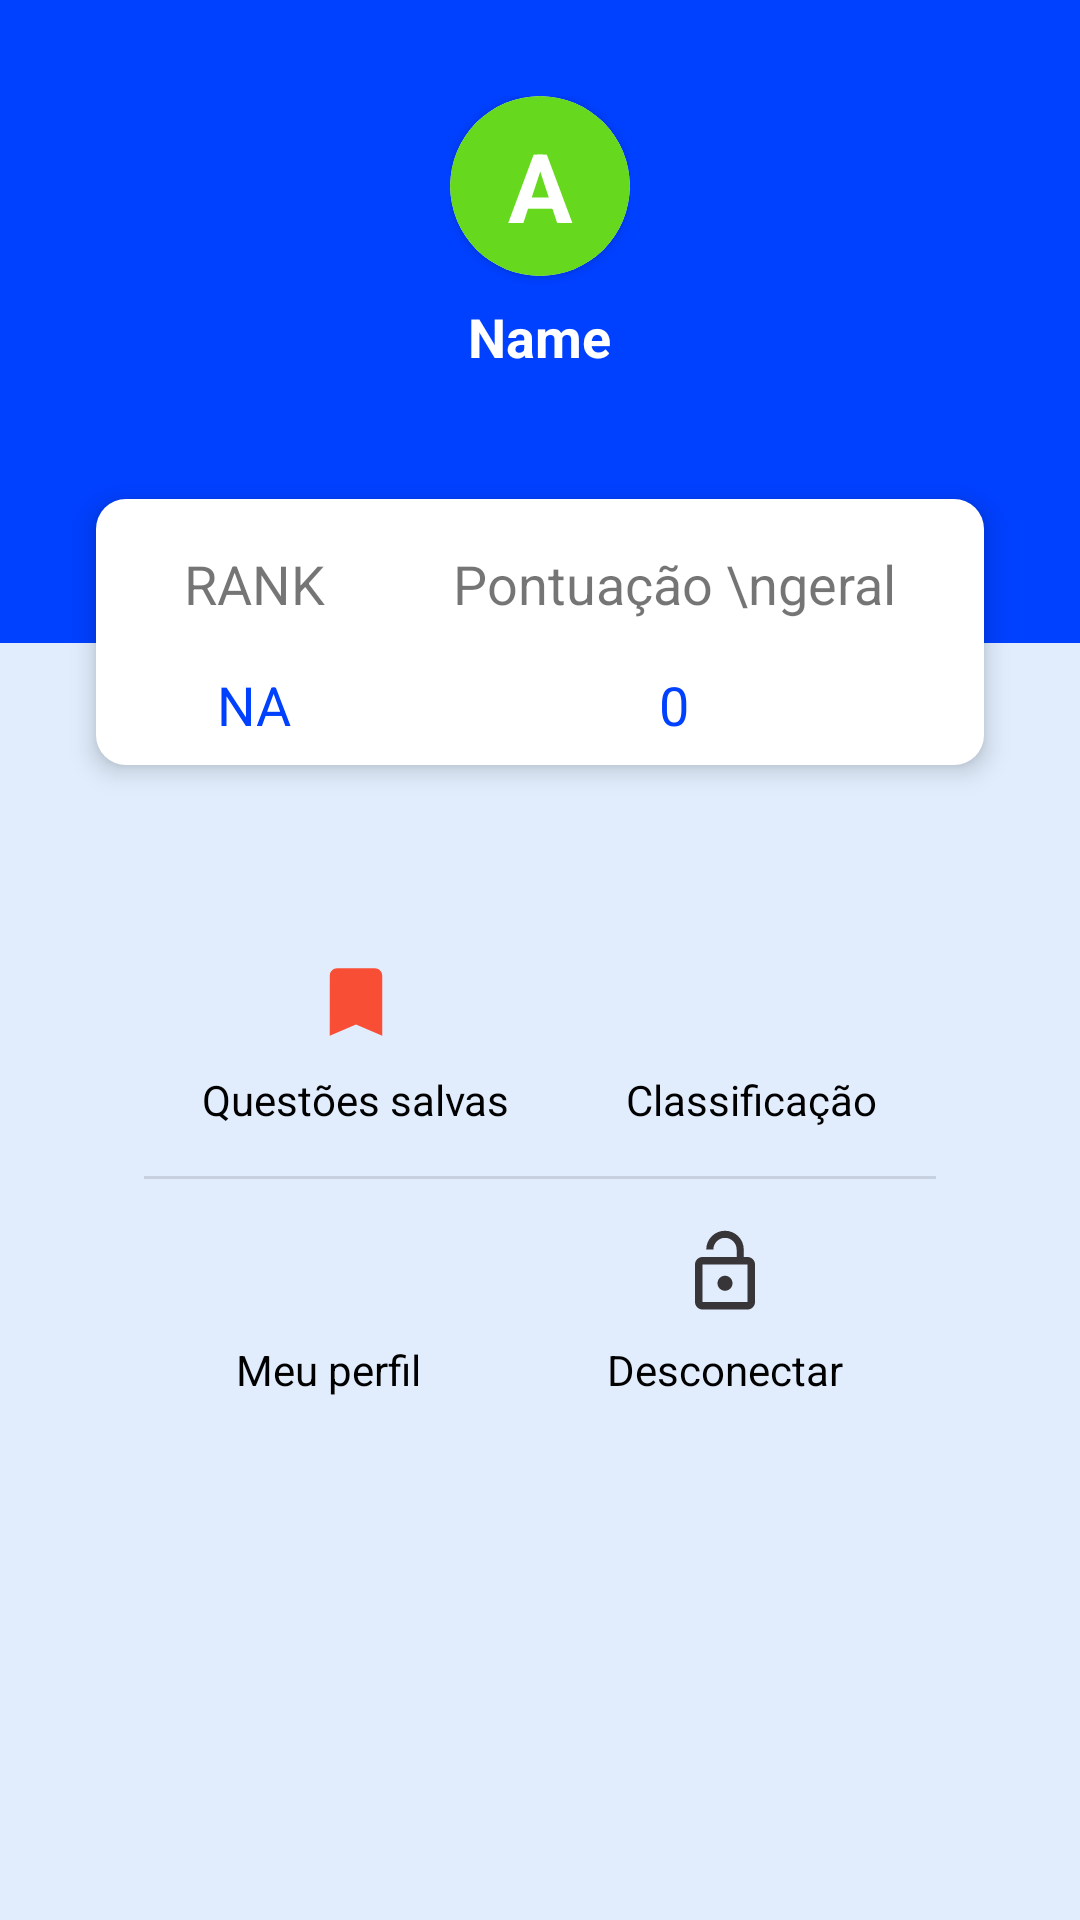

Point at icon controls on the screen. Image size 1080x1920, points as (x,y).
marked: (356,1002)
